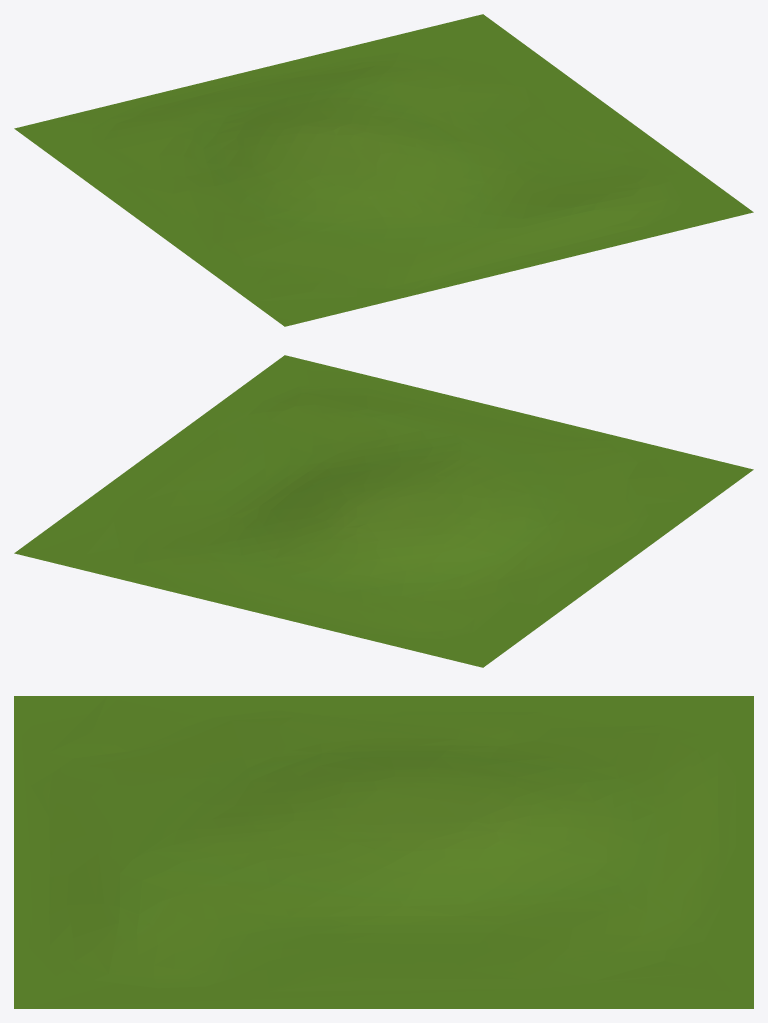
The model's file is Terrain_02.fbx.
The picture shows the model from 3 angles, top to bottom: view 1: azimuth 30°, elevation 25°; view 2: azimuth 150°, elevation 25°; view 3: azimuth 270°, elevation 25°; orthographic projection. The views are drawn at different scales.
Visible parts, largest first — view 1: Terrain_02; view 2: Terrain_02; view 3: Terrain_02.
Boxes of the visible parts, x1,y1,x2,y2 form: Terrain_02: (14,14,753,326); Terrain_02: (14,355,753,667); Terrain_02: (14,696,753,1008).
Bounding box in the file's own units: 12800 × 414 × 12800.
